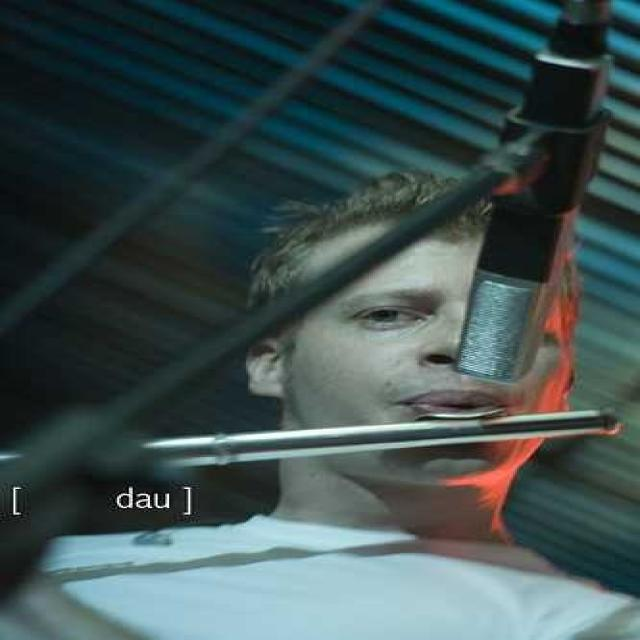microphone: (420, 128, 578, 389)
